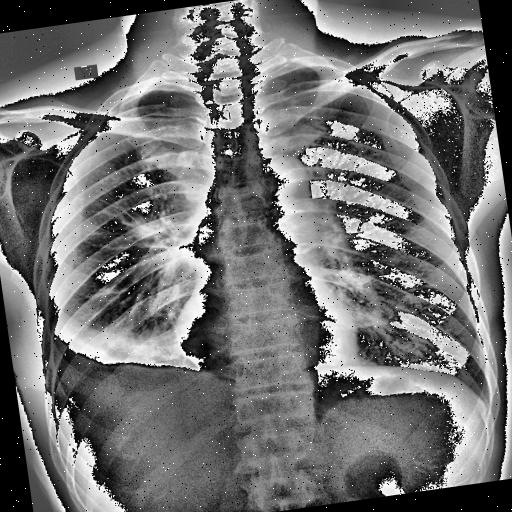10- Pleural effusion: (36, 307, 208, 416), (38, 312, 166, 410), (51, 326, 166, 426)
13- Pulmonary fibrosis: (88, 186, 186, 316), (90, 184, 186, 284), (92, 176, 184, 278)
7- Lung Opacity: (57, 298, 192, 384), (56, 309, 186, 378)
